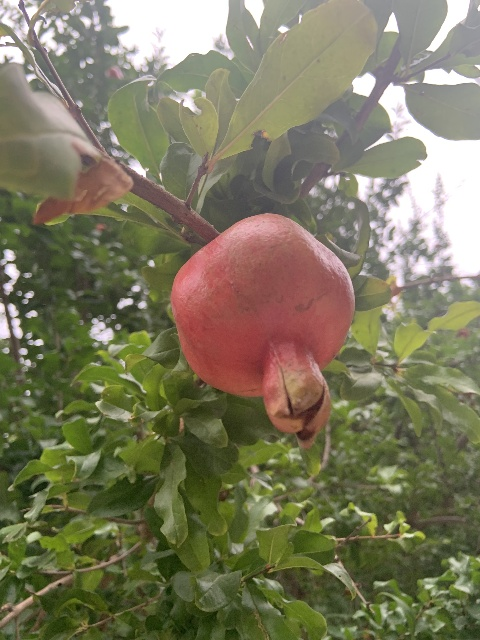ripe: (170, 213, 355, 443)
